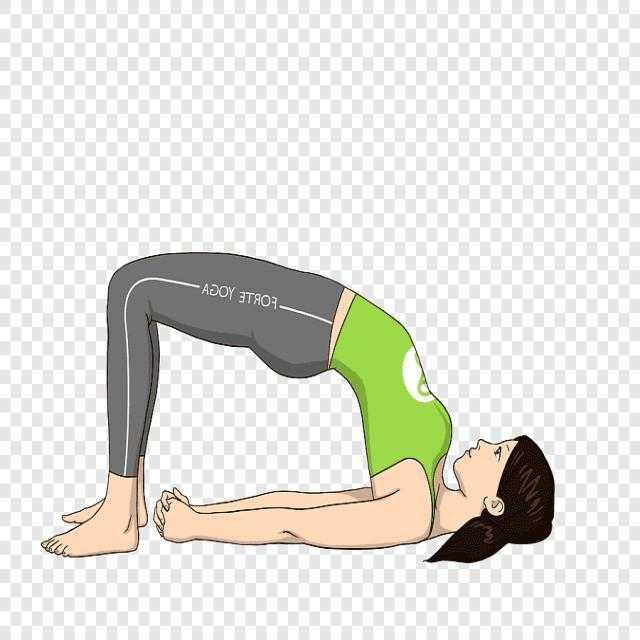yoga-pose bridge: (37, 247, 562, 565)
